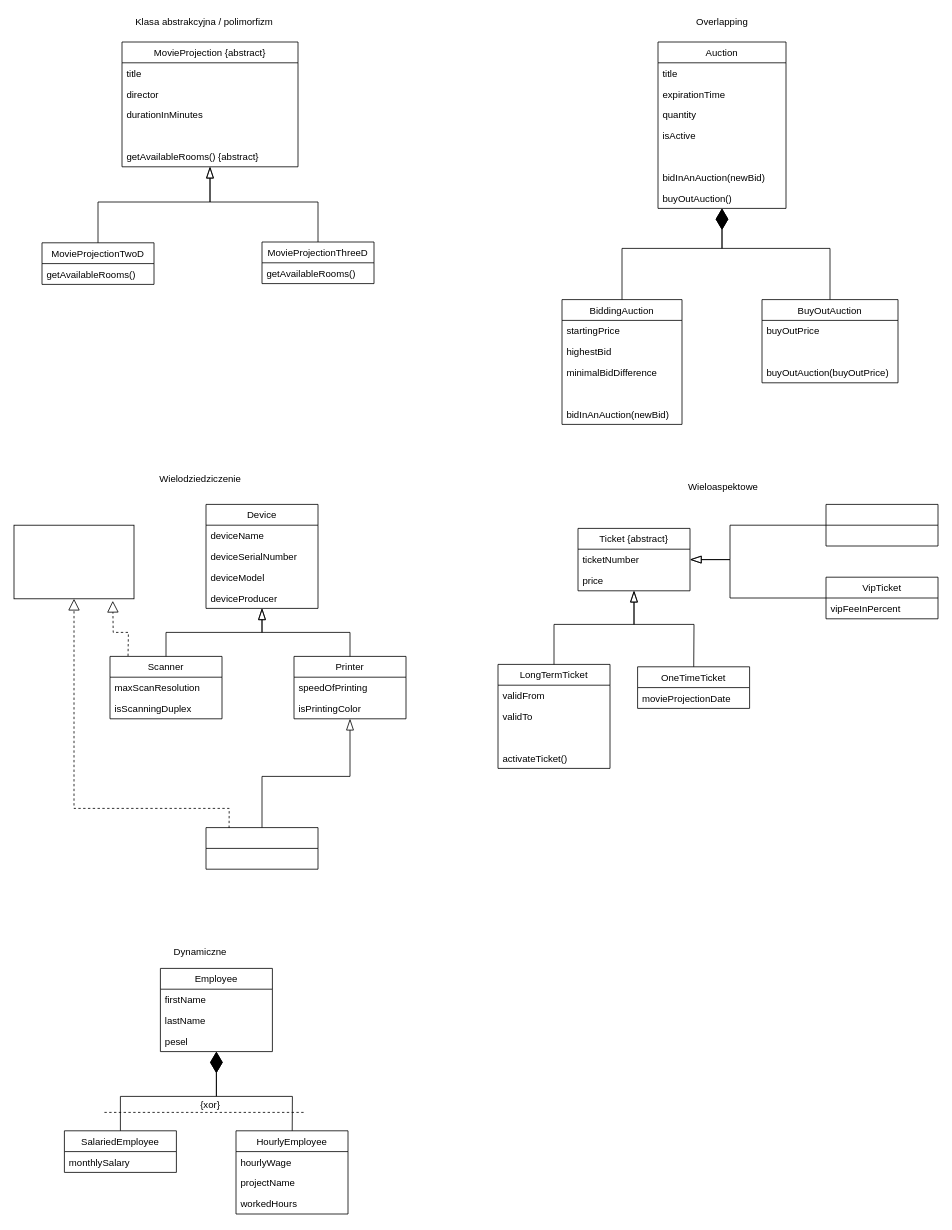
Some shapes in this 952 by 1230 pixel diagram are drawn without their labels. The centre of each missing label's shape, as x and y in pixels:
"<<interface>> IScanner getMaxScanResolution() isScanningDuplex()" belongs at pixel 73 561.
"Copier" belongs at pixel 261 848.
"RegularTicket" belongs at pixel 881 525.
